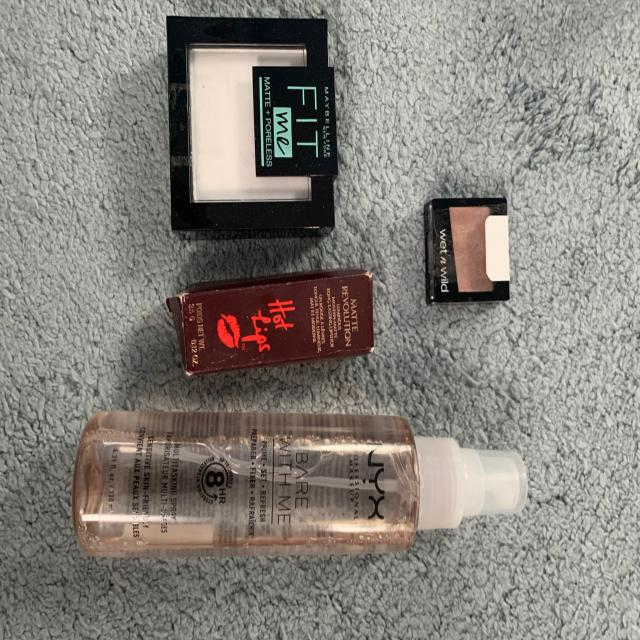highlighter: (74, 395, 527, 583), (426, 193, 514, 299)
lip stick: (176, 275, 382, 370)
powder: (160, 0, 344, 230)
